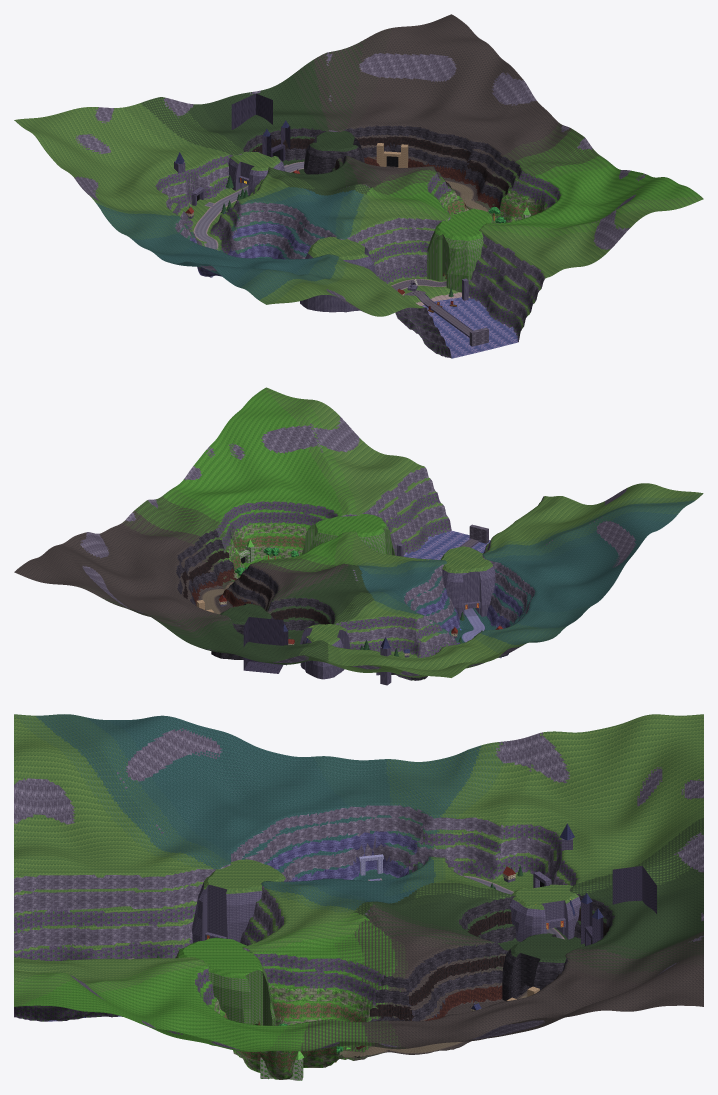
3 views of the same model, one above another, from view 1: azimuth 30°, elevation 25°; view 2: azimuth 150°, elevation 25°; view 3: azimuth 270°, elevation 25° (orthographic). The views are drawn at different scales.
Visible parts, largest first — view 1: Dragon Kingdom, Root Tunnel Rock, Dragon Gate Rock, Lava Tube Rock, Keep Gate Rock, Citadel Keep, Road 09 keep, Causeway; view 2: Dragon Kingdom, Dragon Gate Rock, Root Tunnel Rock, Citadel Keep, Keep Gate Rock, Lava Tube Rock; view 3: Dragon Kingdom, Root Tunnel Rock, Dragon Gate Rock, Lava Tube Rock, Keep Gate Rock, Citadel Keep, Road 14 hold.
Boxes of the visible parts, x1,y1,x2,y2 form: Dragon Kingdom: (14,14,703,358); Root Tunnel Rock: (427,209,494,292); Dragon Gate Rock: (300,236,376,312); Lava Tube Rock: (304,130,364,174); Keep Gate Rock: (228,151,284,195); Citadel Keep: (231,93,272,129); Road 09 keep: (193,185,248,250); Causeway: (415,293,472,337); Dragon Kingdom: (14,387,703,680); Dragon Gate Rock: (440,546,495,619); Root Tunnel Rock: (302,514,395,555); Citadel Keep: (243,617,283,673); Keep Gate Rock: (300,624,350,679); Lava Tube Rock: (211,603,273,659); Dragon Kingdom: (14,714,703,1079); Root Tunnel Rock: (175,937,275,1045); Dragon Gate Rock: (192,859,287,942); Lava Tube Rock: (502,933,577,1001); Keep Gate Rock: (509,884,580,941); Citadel Keep: (612,866,656,913); Road 14 hold: (359,995,526,1056).
Size of what is drawn, in the model's own units: 620 by 134 by 620.
97 materials, 97 textured.
